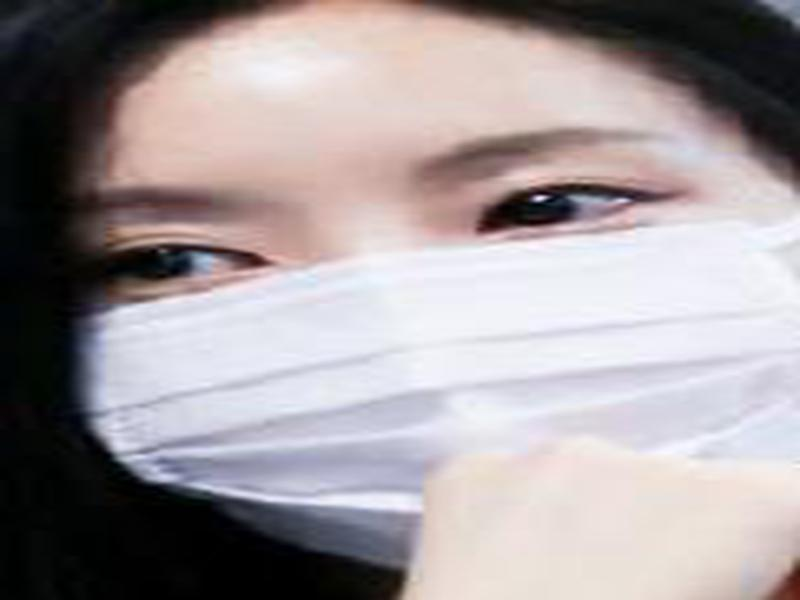with_mask: (13, 2, 797, 571)
